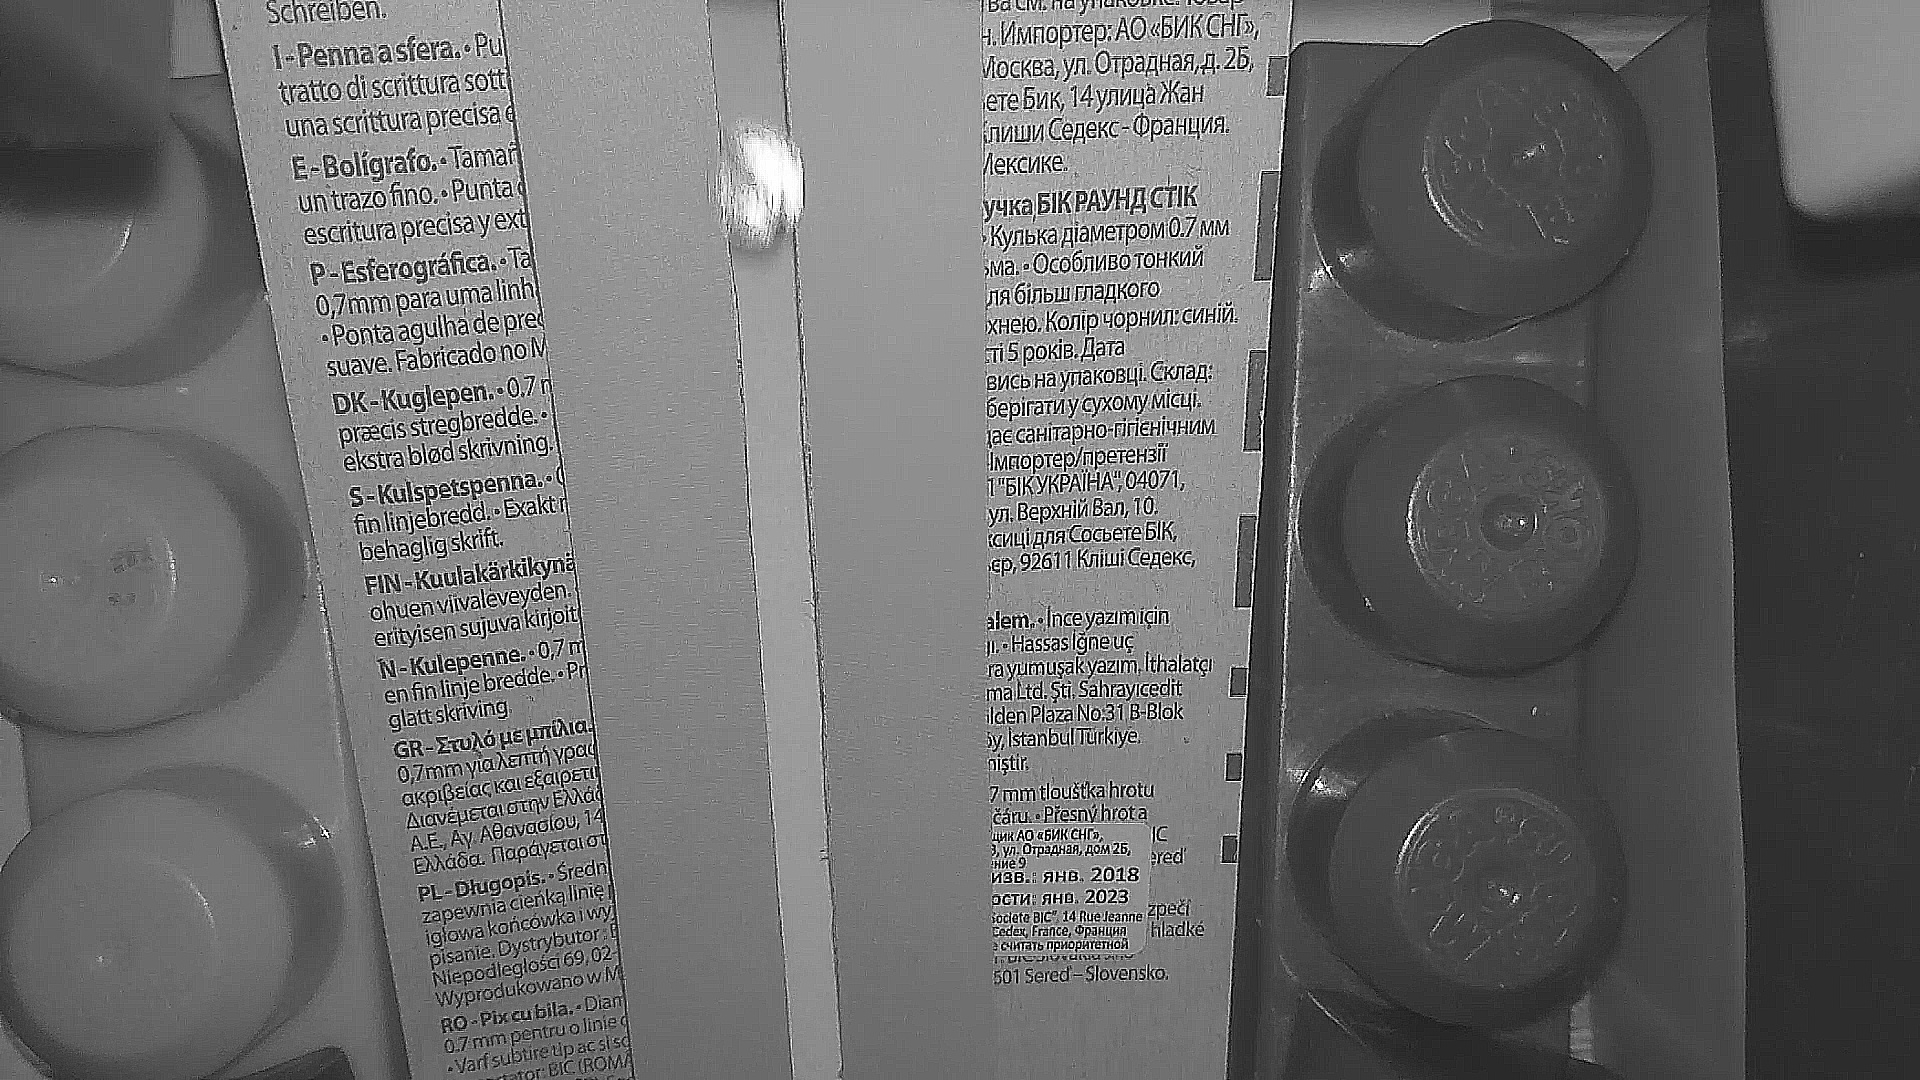i: (715, 132, 802, 244)
